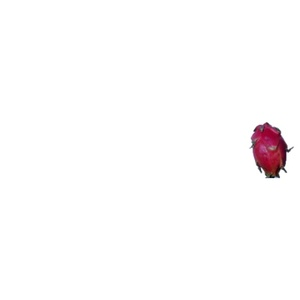pitaia: (251, 123, 290, 179)
